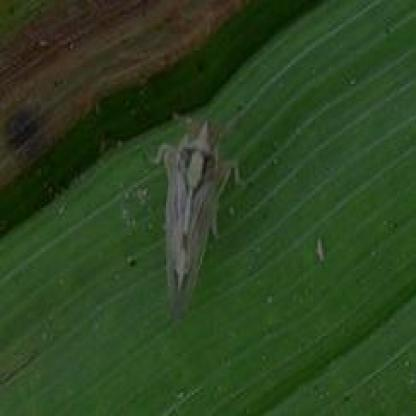brown-planthopper: (158, 118, 220, 316)
